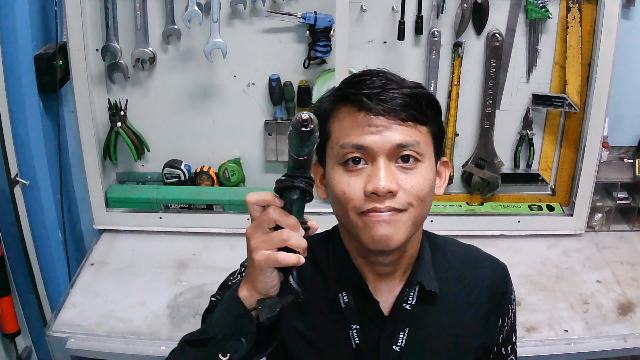gun_lem: (245, 110, 322, 329)
